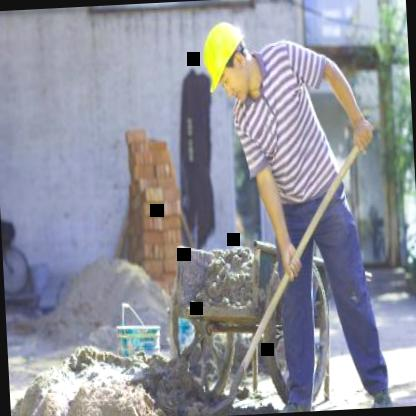helmet: (198, 14, 262, 106)
